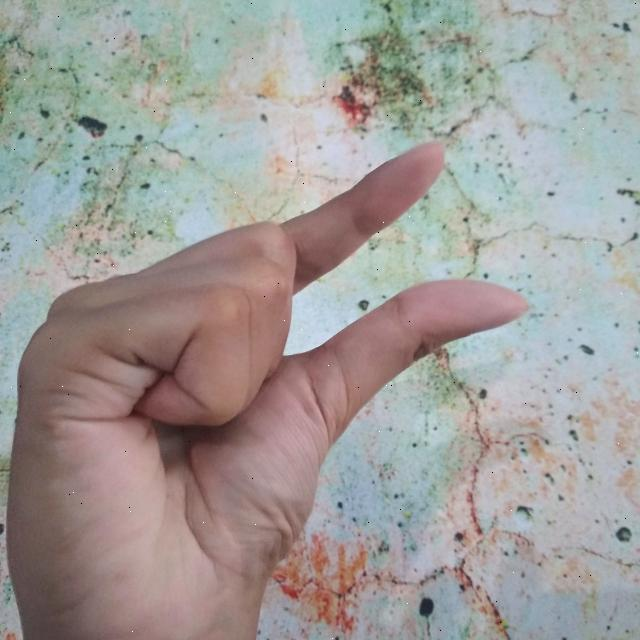G: (5, 137, 536, 640)
